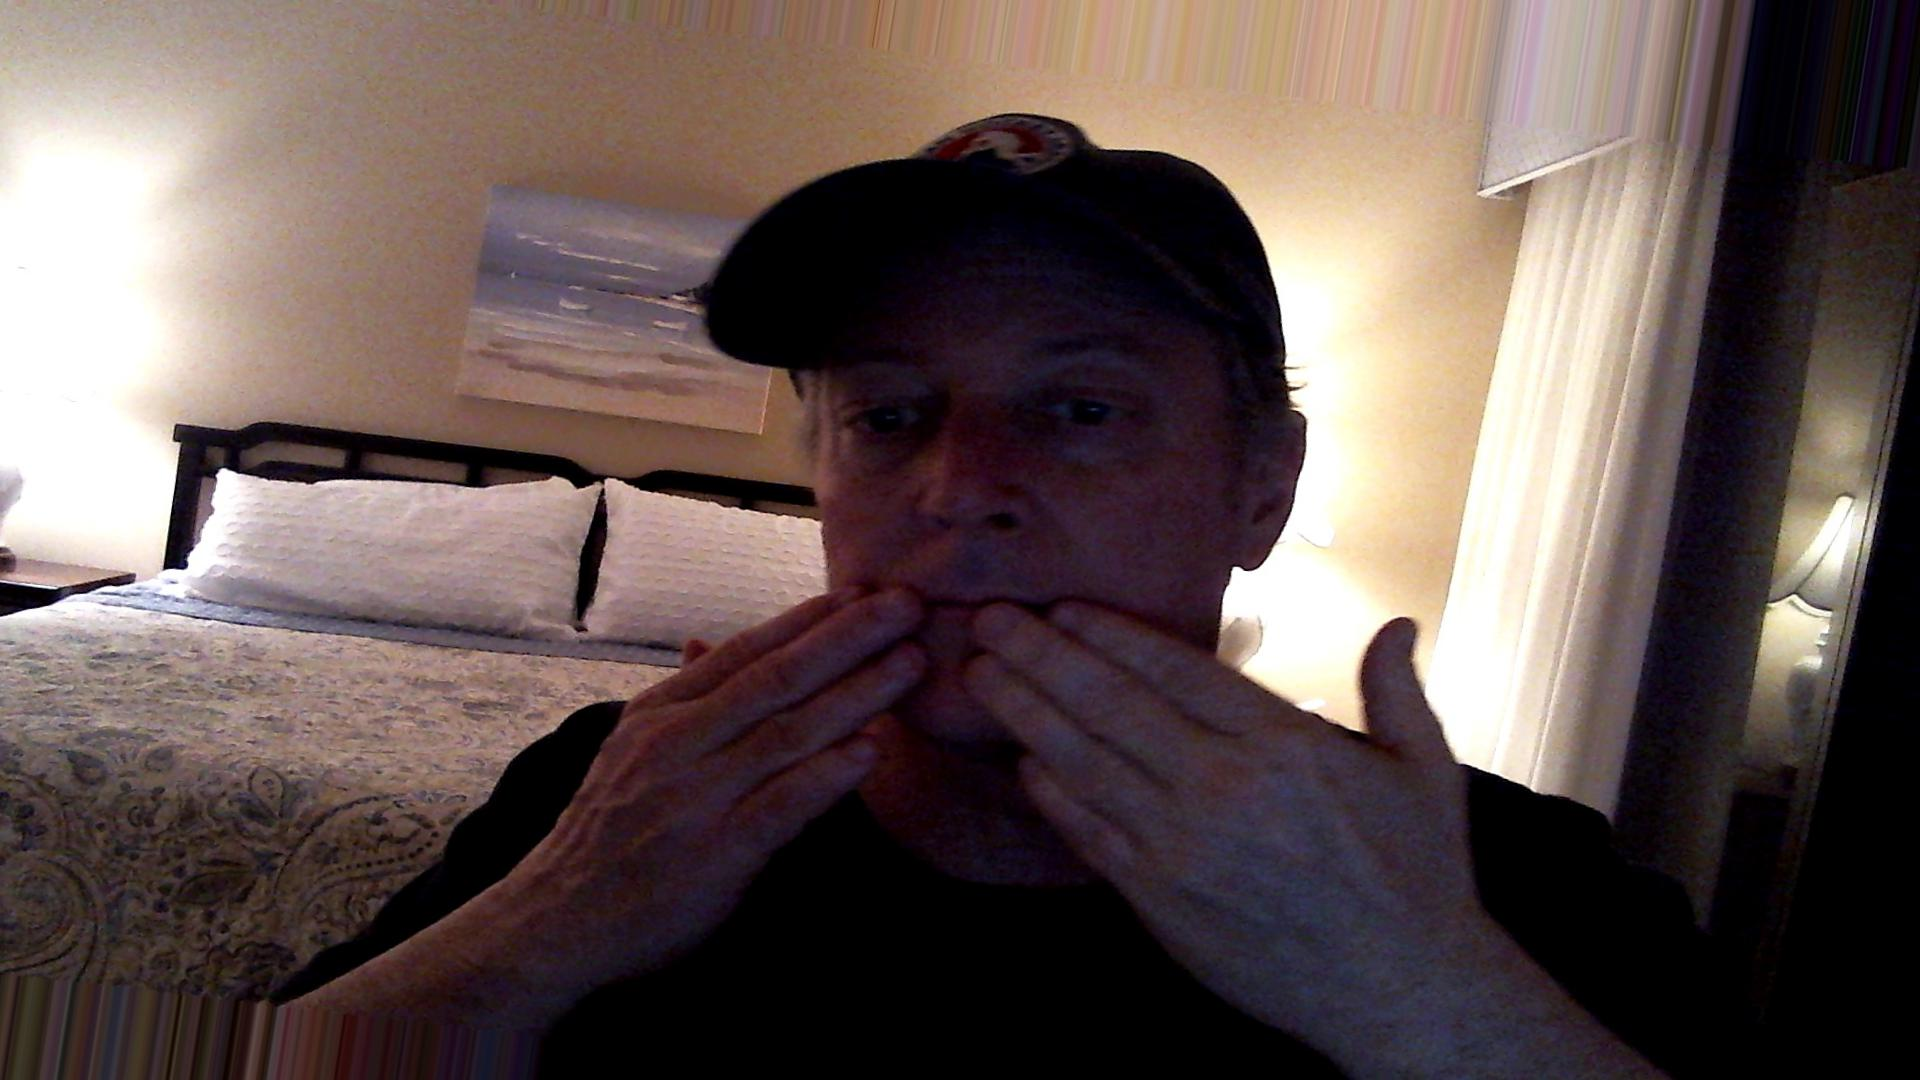Thank You: (587, 560, 1476, 968)
